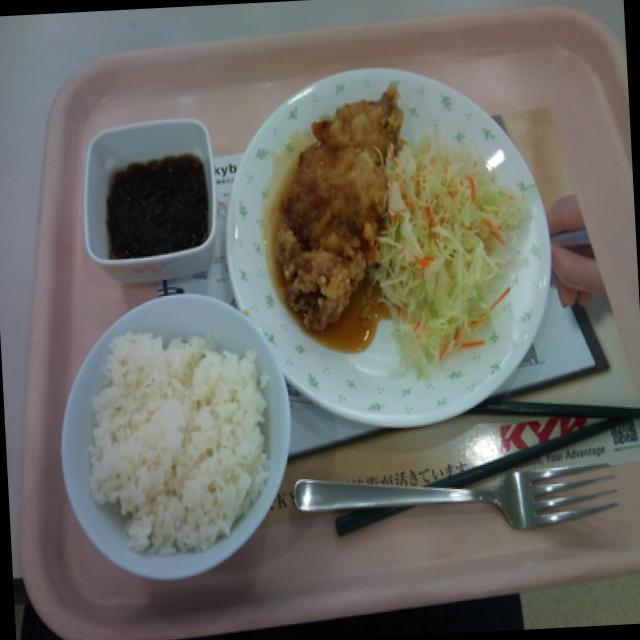Rice: (86, 320, 274, 538)
